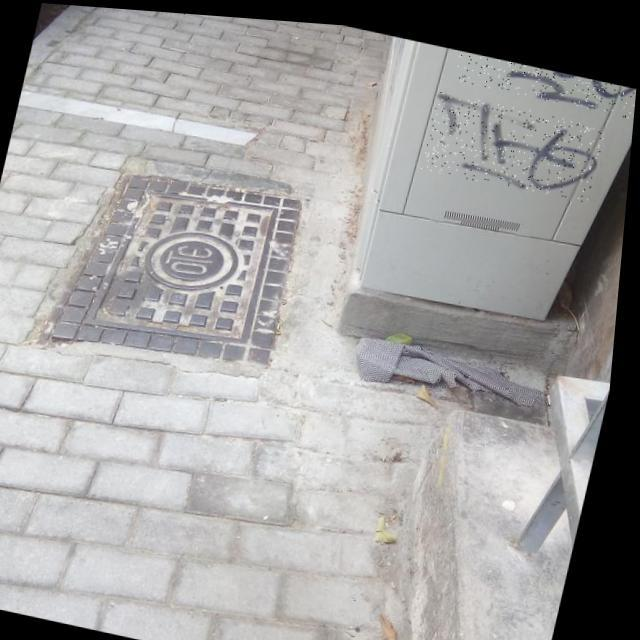-: (422, 83, 609, 196), (451, 42, 639, 110)
